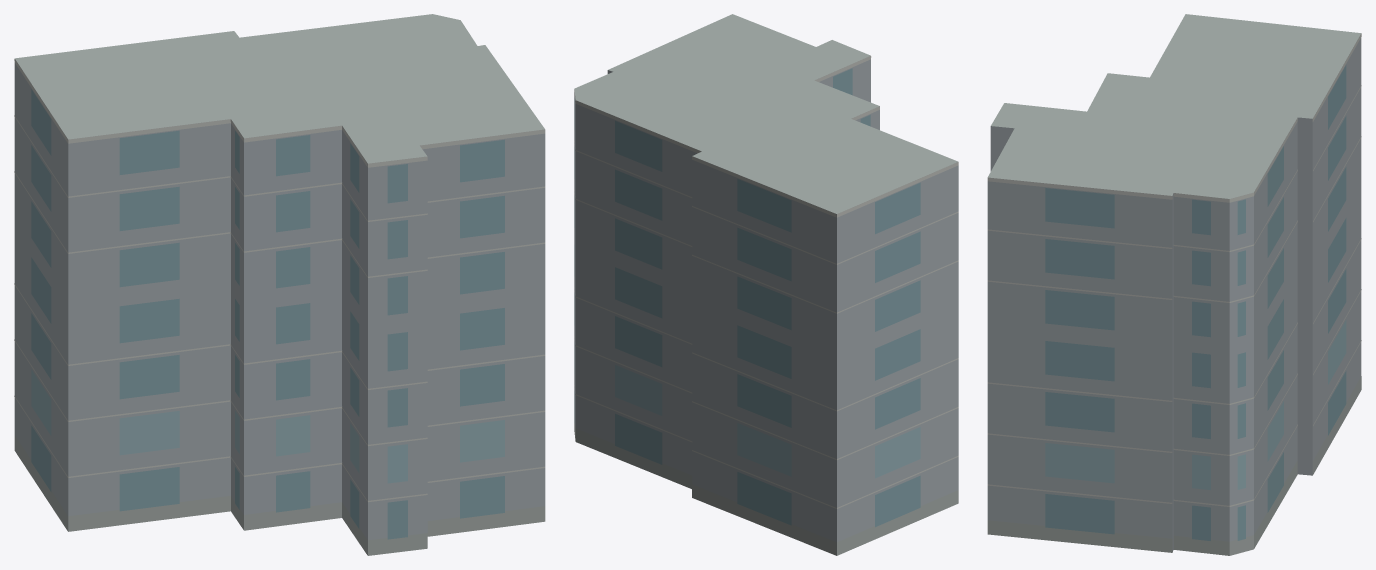
File: survey-upis-32742726.glb
The picture shows the model from 3 angles, left to right: view 1: azimuth 30°, elevation 25°; view 2: azimuth 150°, elevation 25°; view 3: azimuth 270°, elevation 25°; orthographic projection. The views are drawn at different scales.
Parts seen in each view (by area): view 1: survey-upis-32742726.tmp; view 2: survey-upis-32742726.tmp; view 3: survey-upis-32742726.tmp.
Part boxes in pixels (bbox=[...]): survey-upis-32742726.tmp: bbox=[14, 14, 545, 555]; survey-upis-32742726.tmp: bbox=[574, 14, 958, 555]; survey-upis-32742726.tmp: bbox=[987, 14, 1361, 555].
Bounding box in the file's own units: 25.49 × 22.9 × 21.77.
